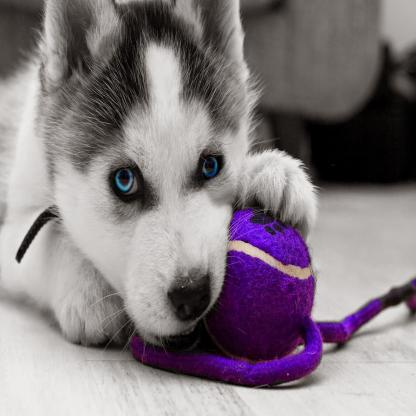dog: (1, 0, 318, 351)
